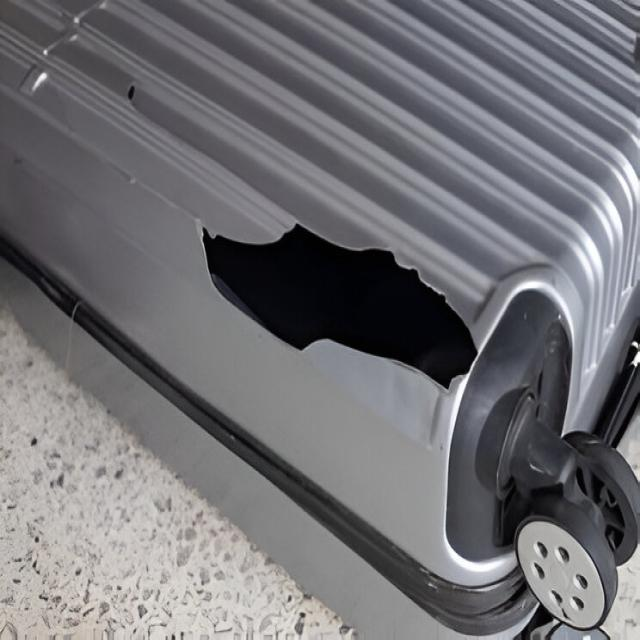Damage-bag: (202, 225, 476, 387), (126, 84, 136, 102)
